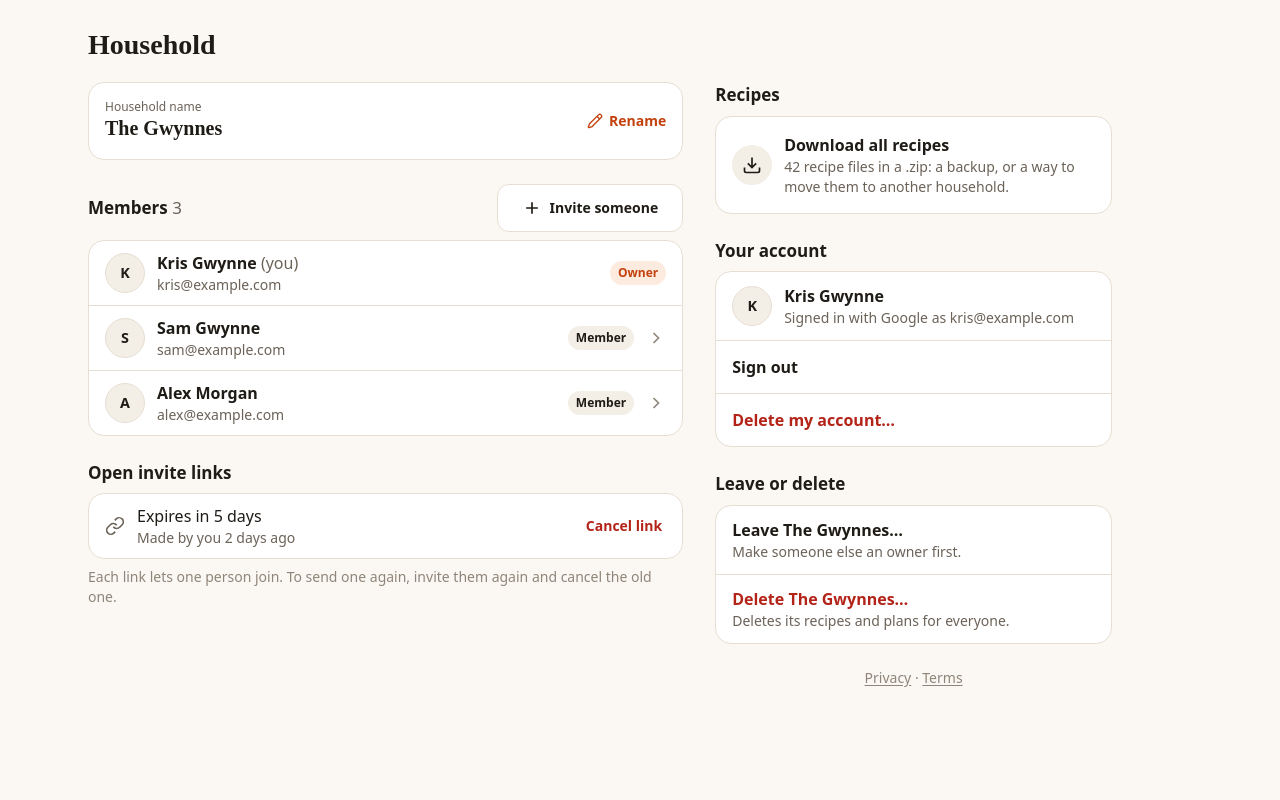
it: as an owner (design A, B) › renames (design D)
This screenshot has width=1280, height=800.
Click the button "Household name The Gwynnes Rename".
click(153, 106)  # box x1=88 y1=82 x2=683 y2=160
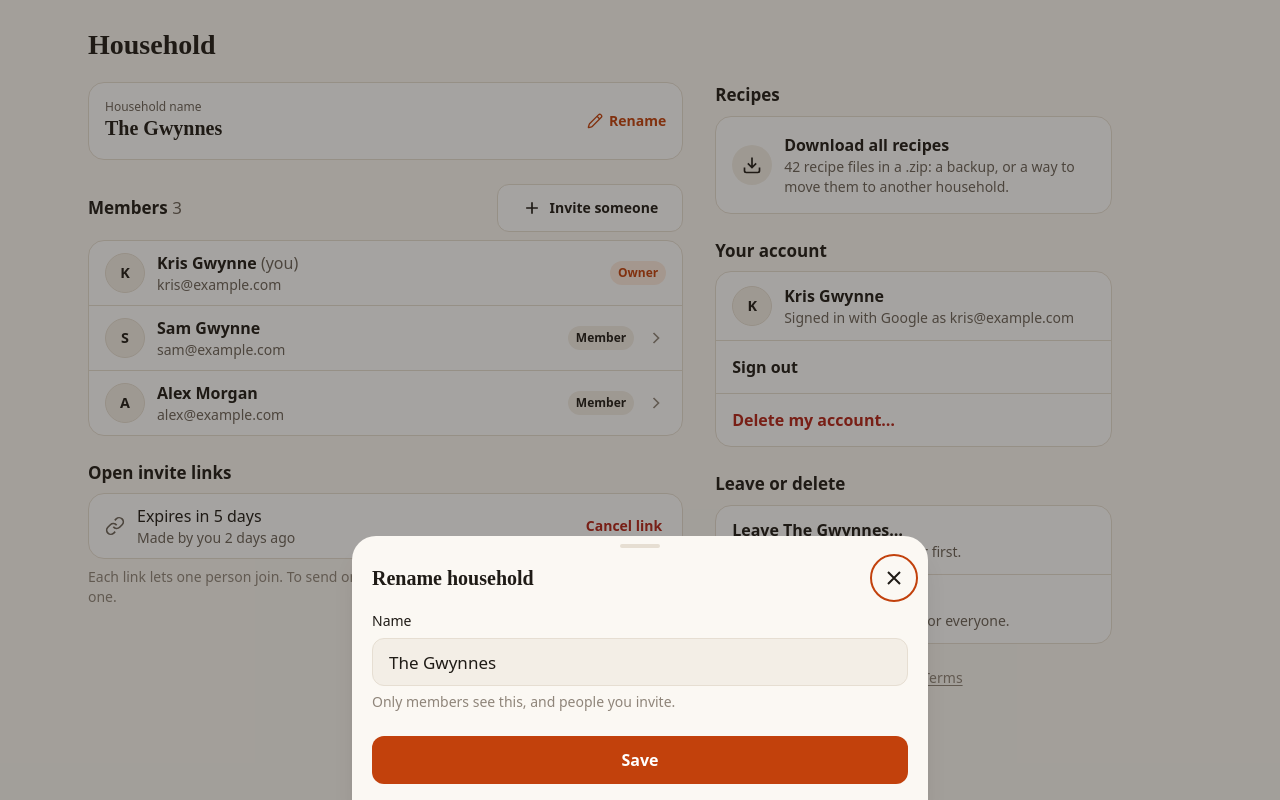
Replace the text in the field labelled "Name Only members see this, and people you invite." with "The Gwynne kitchen" at (640, 662), box x1=372 y1=638 x2=908 y2=686
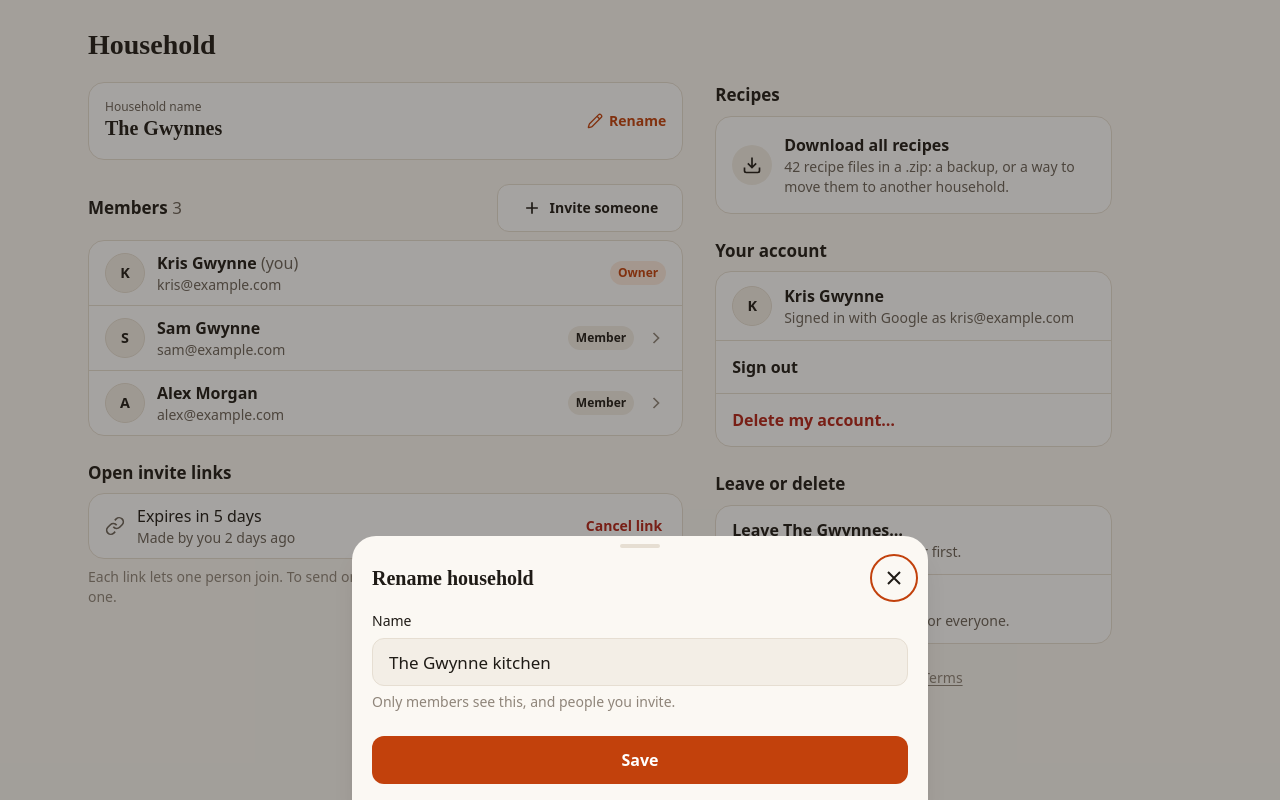
Click the button "Save".
click(640, 760)  # box x1=372 y1=736 x2=908 y2=784
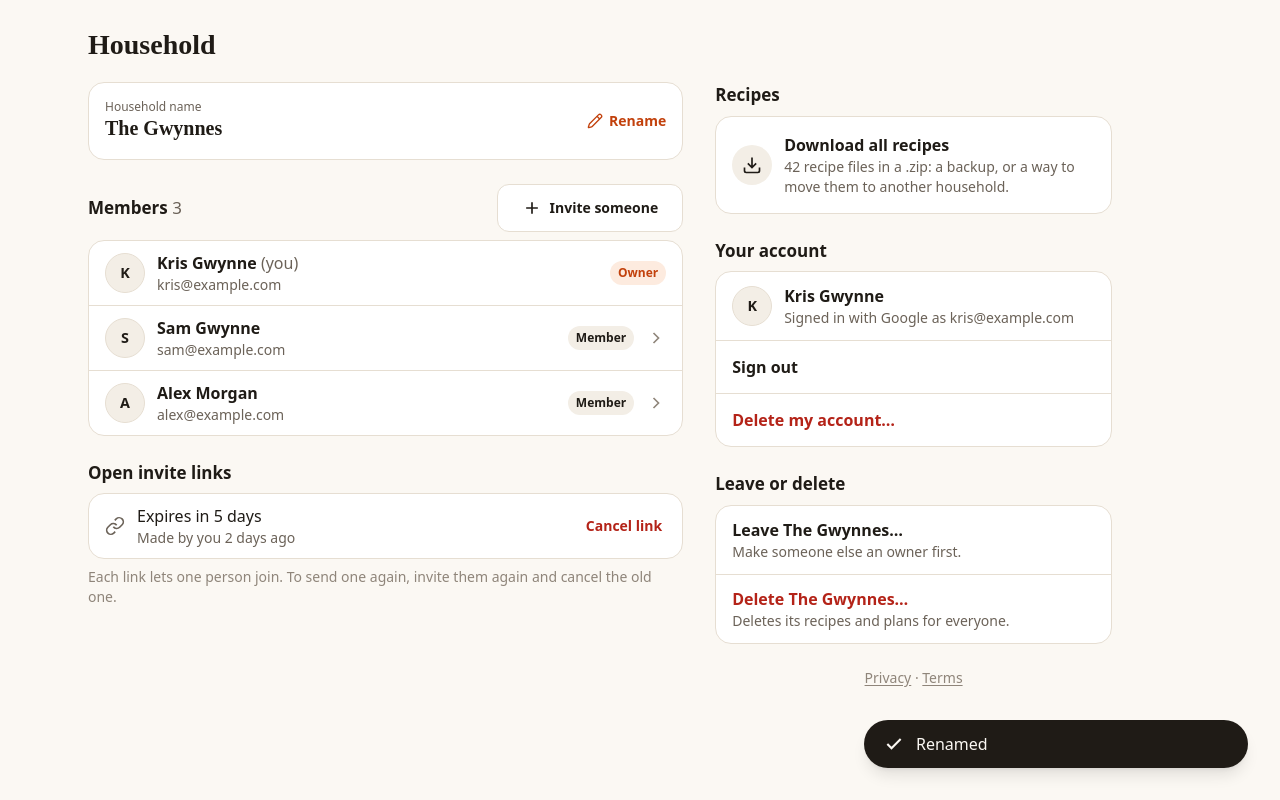
expect the dialog is gone: met
expect the message reads "Renamed": met, box x1=916 y1=733 x2=988 y2=755
